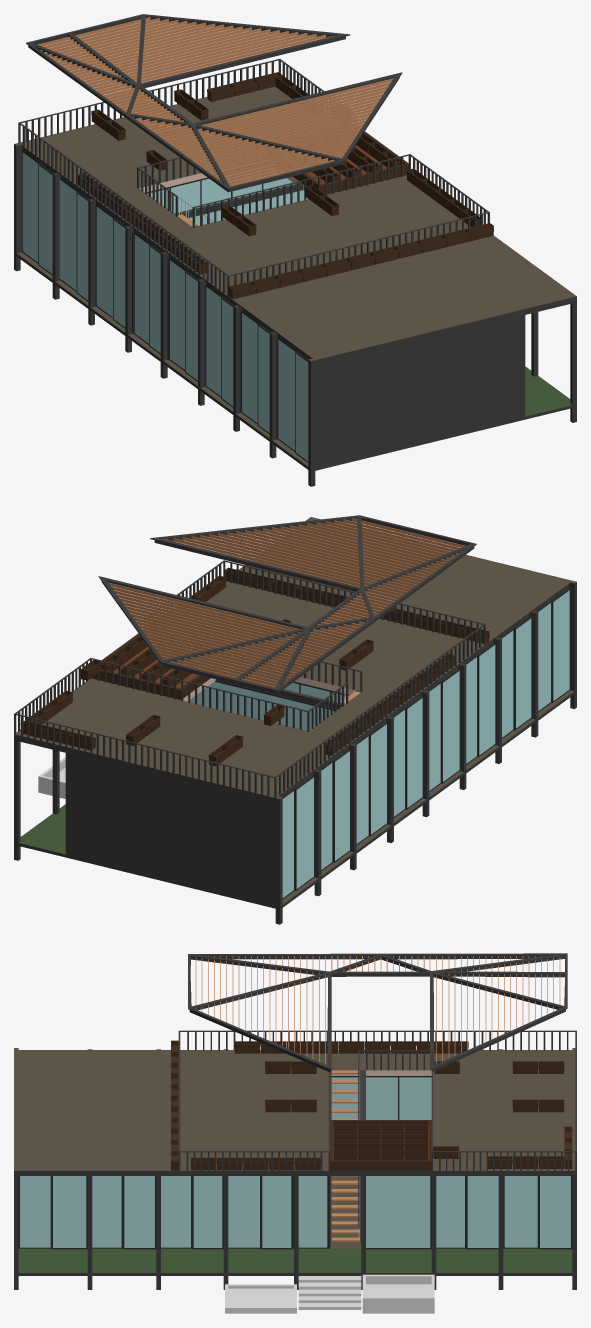
The model's file is MSH_Coworking-out-of-the-box.fbx.
3 renders of one model, top to bottom at view 1: azimuth 30°, elevation 25°; view 2: azimuth 150°, elevation 25°; view 3: azimuth 270°, elevation 25°, orthographic. The views are drawn at different scales.
Parts seen in each view (by area): view 1: MSH_Techo-coworking, MSH_Coworking-base, MSH_Techo-superior-coworking, MSH_Coworking-ventanas, MSH_Barandales-coworking, MSH_Macetas-coworking.001, MSH_Coworking-ventanas.001, MSH_Macetas-coworking.015, MSH_Macetas-coworking.002, MSH_Macetas-coworking.005, MSH_Macetas-coworking.009, MSH_Macetas-coworking.012; view 2: MSH_Techo-coworking, MSH_Coworking-base, MSH_Techo-superior-coworking, MSH_Coworking-ventanas, MSH_Barandales-coworking, MSH_Coworking-ventanas.001, MSH_Macetas-coworking.001, MSH_Macetas-coworking.015, MSH_Macetas-coworking.002, MSH_Macetas-coworking.009, MSH_Macetas-coworking.012, MSH_Macetas-coworking.008 (+3 smaller); view 3: MSH_Techo-coworking, MSH_Coworking-ventanas, MSH_Coworking-base, MSH_Techo-superior-coworking, MSH_Coworking-ventanas.001, MSH_Barandales-coworking, MSH_Macetas-coworking.002, MSH_Escaleras-coworking, MSH_Macetas-coworking.015, MSH_Macetas-coworking.005, MSH_Macetas-coworking.001, MSH_Macetas-coworking.012 (+8 smaller).
Part boxes in pixels (x1,y1,x2,y2): MSH_Techo-coworking: (14, 86, 576, 366); MSH_Coworking-base: (14, 150, 576, 486); MSH_Techo-superior-coworking: (26, 14, 402, 192); MSH_Coworking-ventanas: (22, 151, 308, 462); MSH_Barandales-coworking: (18, 59, 489, 296); MSH_Macetas-coworking.001: (228, 223, 493, 299); MSH_Coworking-ventanas.001: (147, 163, 307, 225); MSH_Macetas-coworking.015: (268, 125, 408, 194); MSH_Macetas-coworking.002: (78, 173, 206, 274); MSH_Macetas-coworking.005: (406, 168, 480, 227); MSH_Macetas-coworking.009: (207, 72, 281, 101); MSH_Macetas-coworking.012: (349, 128, 399, 167); MSH_Techo-coworking: (14, 517, 576, 804); MSH_Coworking-base: (14, 588, 576, 924); MSH_Techo-superior-coworking: (98, 515, 476, 693); MSH_Coworking-ventanas: (282, 588, 570, 898); MSH_Barandales-coworking: (14, 560, 485, 797); MSH_Coworking-ventanas.001: (187, 667, 349, 730); MSH_Macetas-coworking.001: (225, 567, 489, 643); MSH_Macetas-coworking.015: (92, 632, 230, 699); MSH_Macetas-coworking.002: (326, 654, 454, 755); MSH_Macetas-coworking.009: (20, 720, 95, 750); MSH_Macetas-coworking.012: (101, 632, 149, 671); MSH_Macetas-coworking.008: (25, 690, 72, 724); MSH_Techo-coworking: (14, 1048, 576, 1176); MSH_Coworking-ventanas: (18, 1176, 572, 1249); MSH_Coworking-base: (14, 1049, 576, 1313); MSH_Techo-superior-coworking: (188, 953, 567, 1072); MSH_Coworking-ventanas.001: (328, 1076, 431, 1249); MSH_Barandales-coworking: (178, 1030, 576, 1170); MSH_Macetas-coworking.002: (234, 1041, 468, 1053); MSH_Escaleras-coworking: (330, 1051, 361, 1242); MSH_Macetas-coworking.015: (330, 1120, 431, 1170); MSH_Macetas-coworking.005: (190, 1157, 320, 1170); MSH_Macetas-coworking.001: (171, 1040, 178, 1170); MSH_Macetas-coworking.012: (333, 1150, 428, 1160).
Bounding box in the file's own units: 1109 × 765 × 1800.
